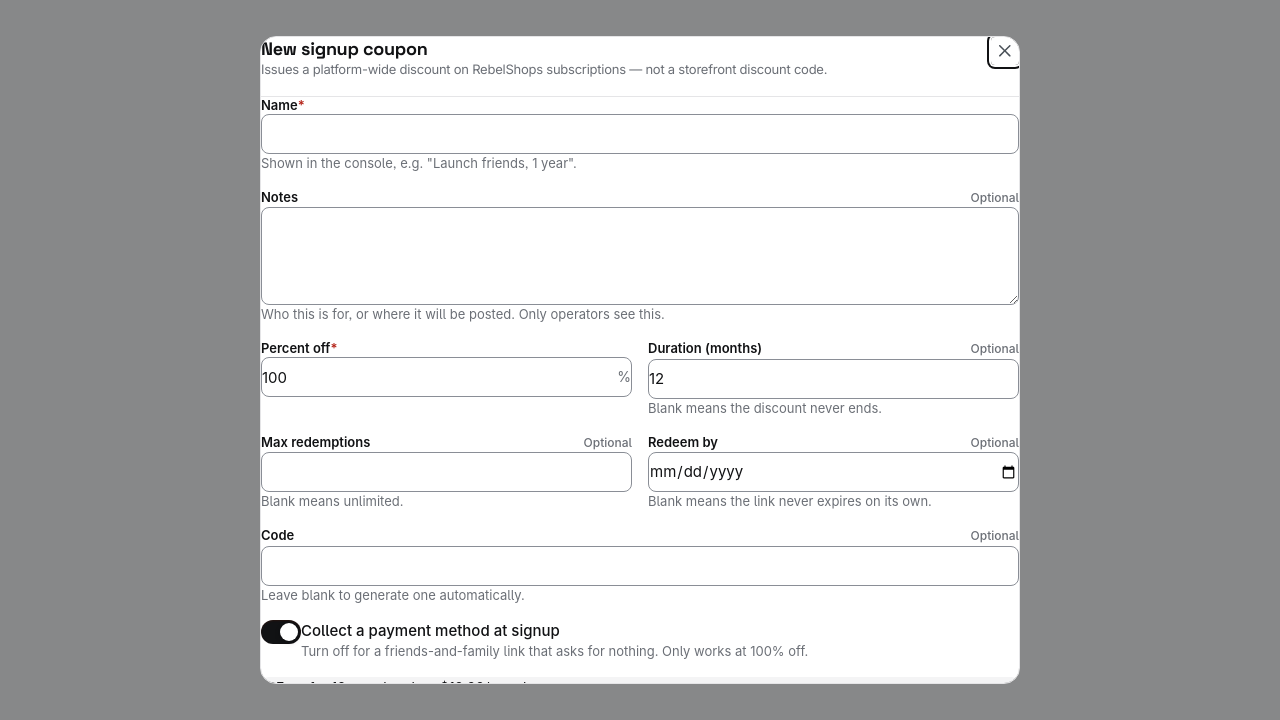
Test: CreateCouponModal: the percent-off / card-collection interlock › re-enables the switch the moment percent off returns to 100
Replace the text in the number field labelled "Percent off*" with "50" at (440, 377), box [262,358,617,396]
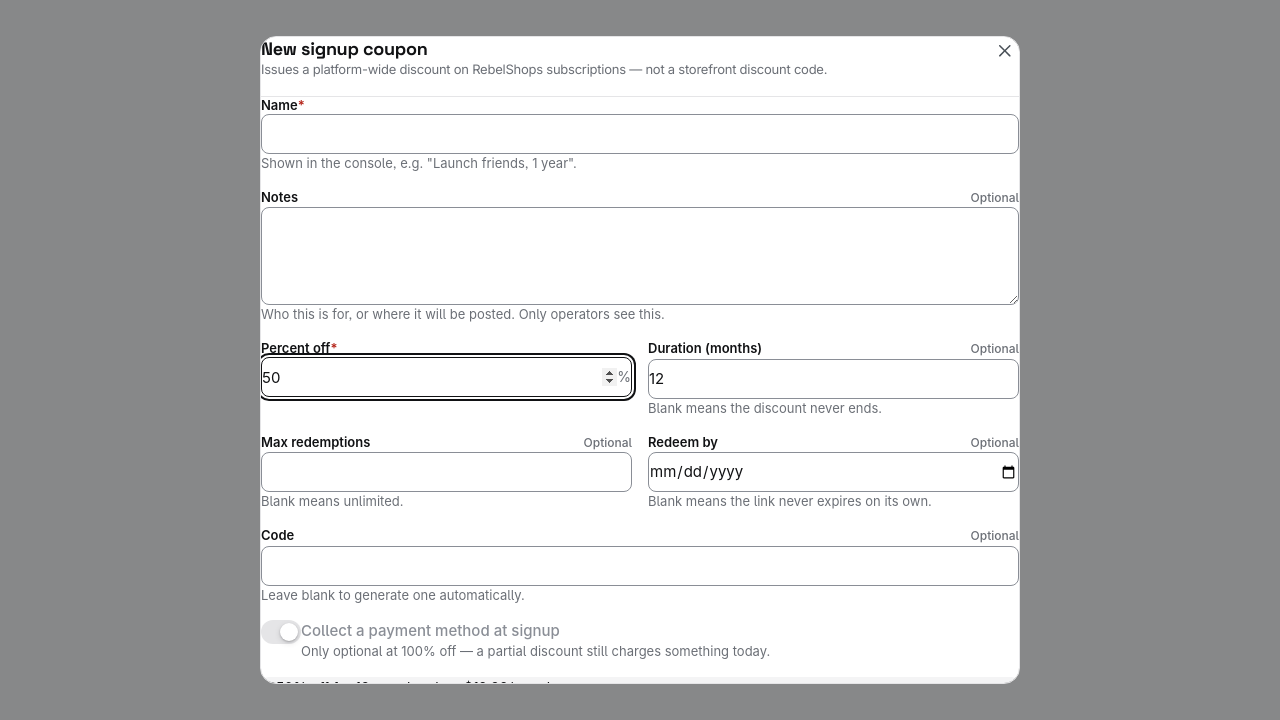
Check: the switch labelled "Collect a payment method at signup" is disabled, box [261,620,770,659]
Replace the text in the number field labelled "Percent off*" with "100" at (440, 377), box [262,358,617,396]
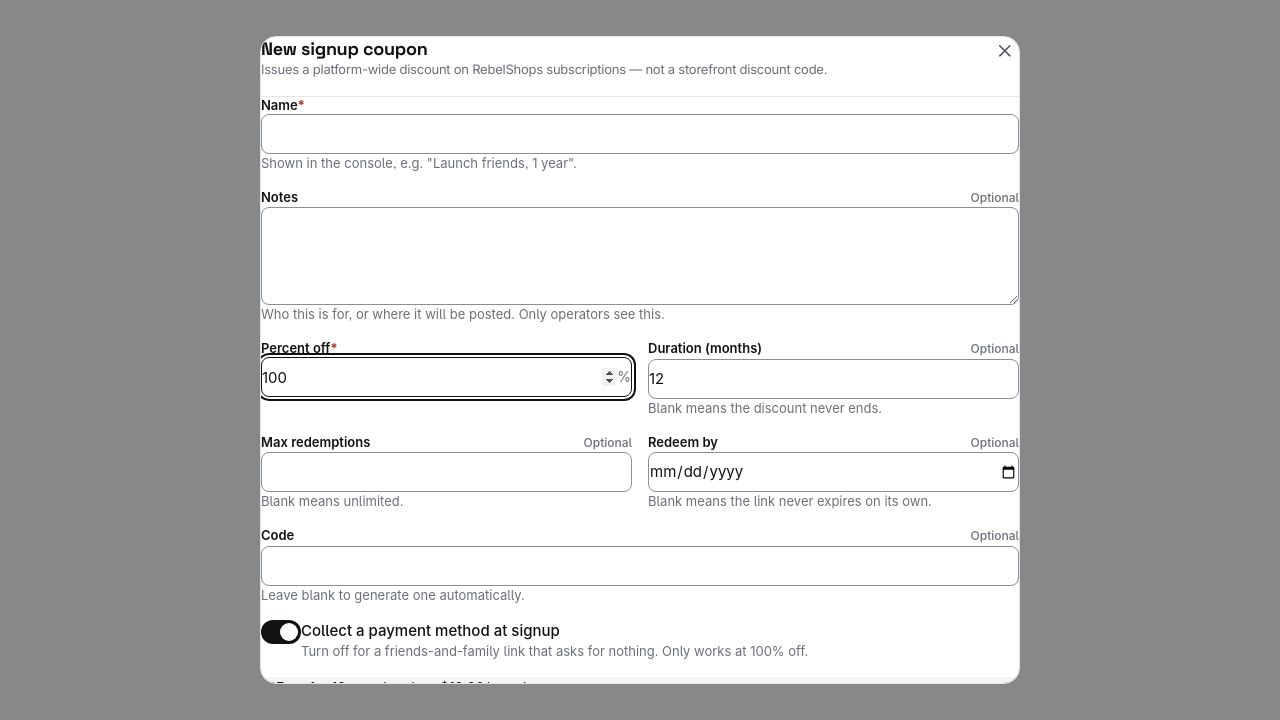
Check: the switch labelled "Collect a payment method at signup" is checked, box [261,620,808,659]
Check: the switch labelled "Collect a payment method at signup" is enabled, box [261,620,808,659]
